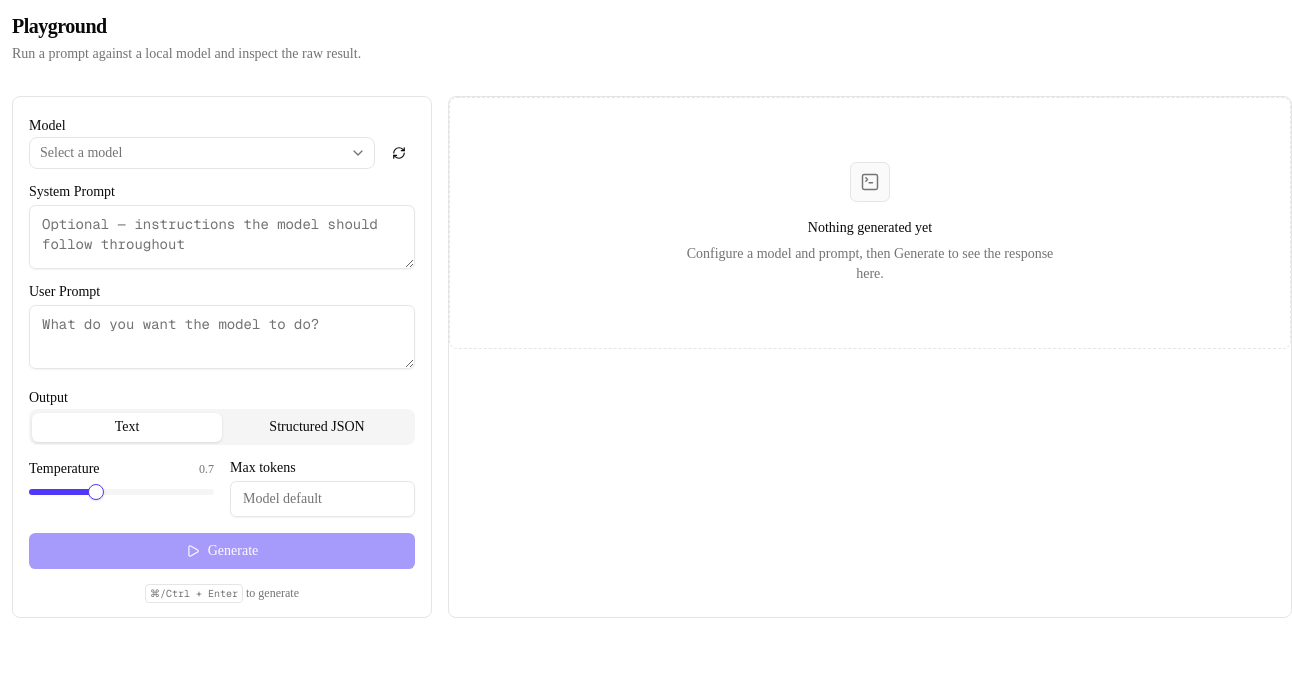
Scenario: PlaygroundPage › streams a response and renders it progressively
This screenshot has width=1292, height=693.
In the text box labelled "User Prompt": (222, 337) [29,305,415,369], type "Say hi"
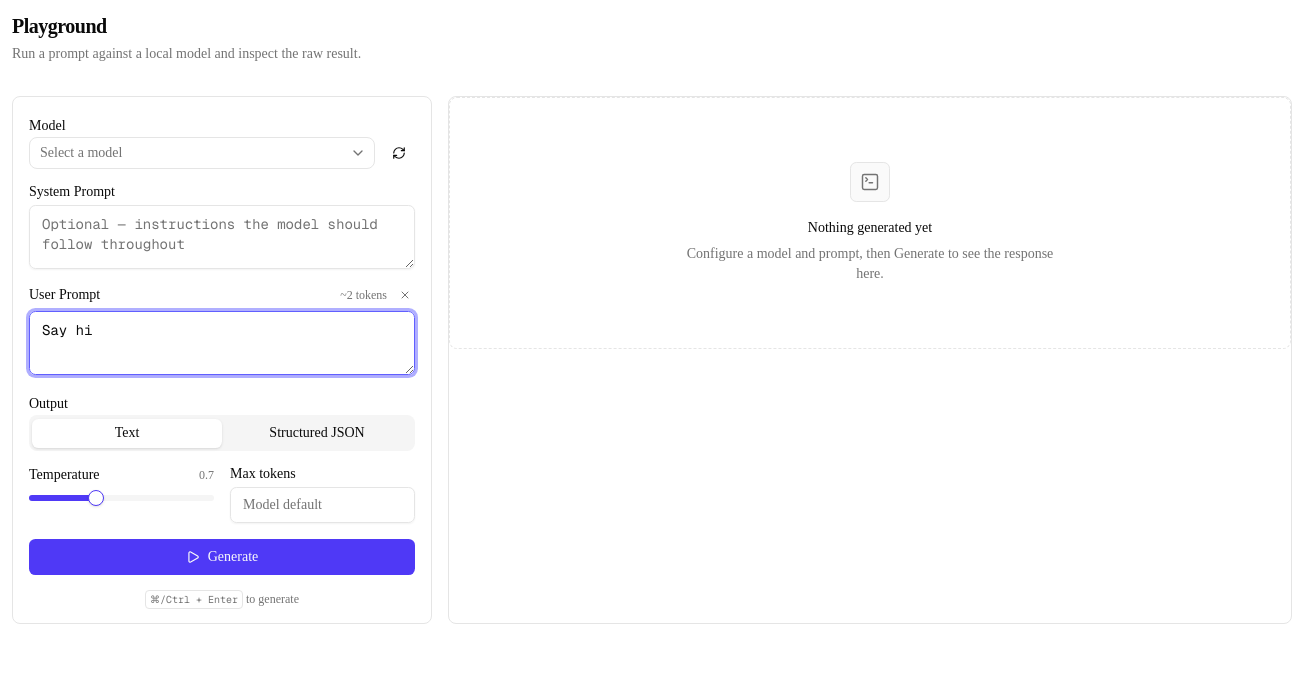
Expected: the button "Generate" is enabled
Click the button "Generate": click(222, 557) [29,539,415,575]
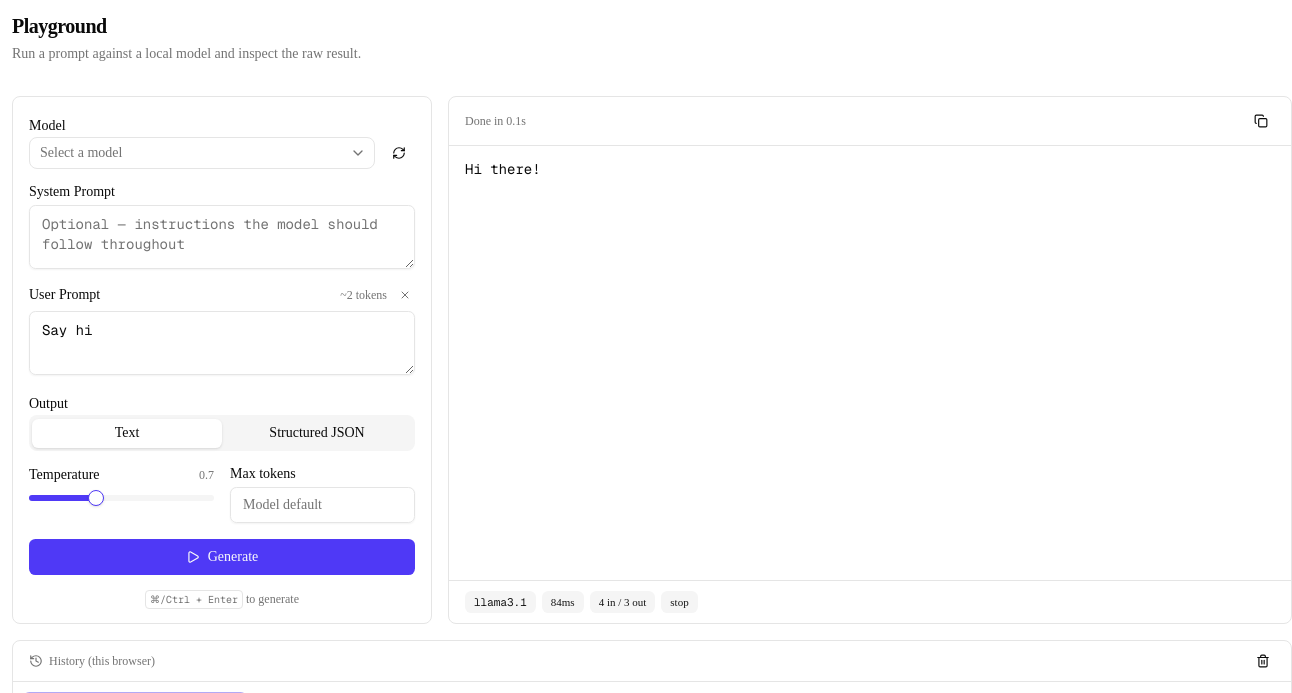
Expected: the text "Hi there!" is shown, [465,160,541,178]
